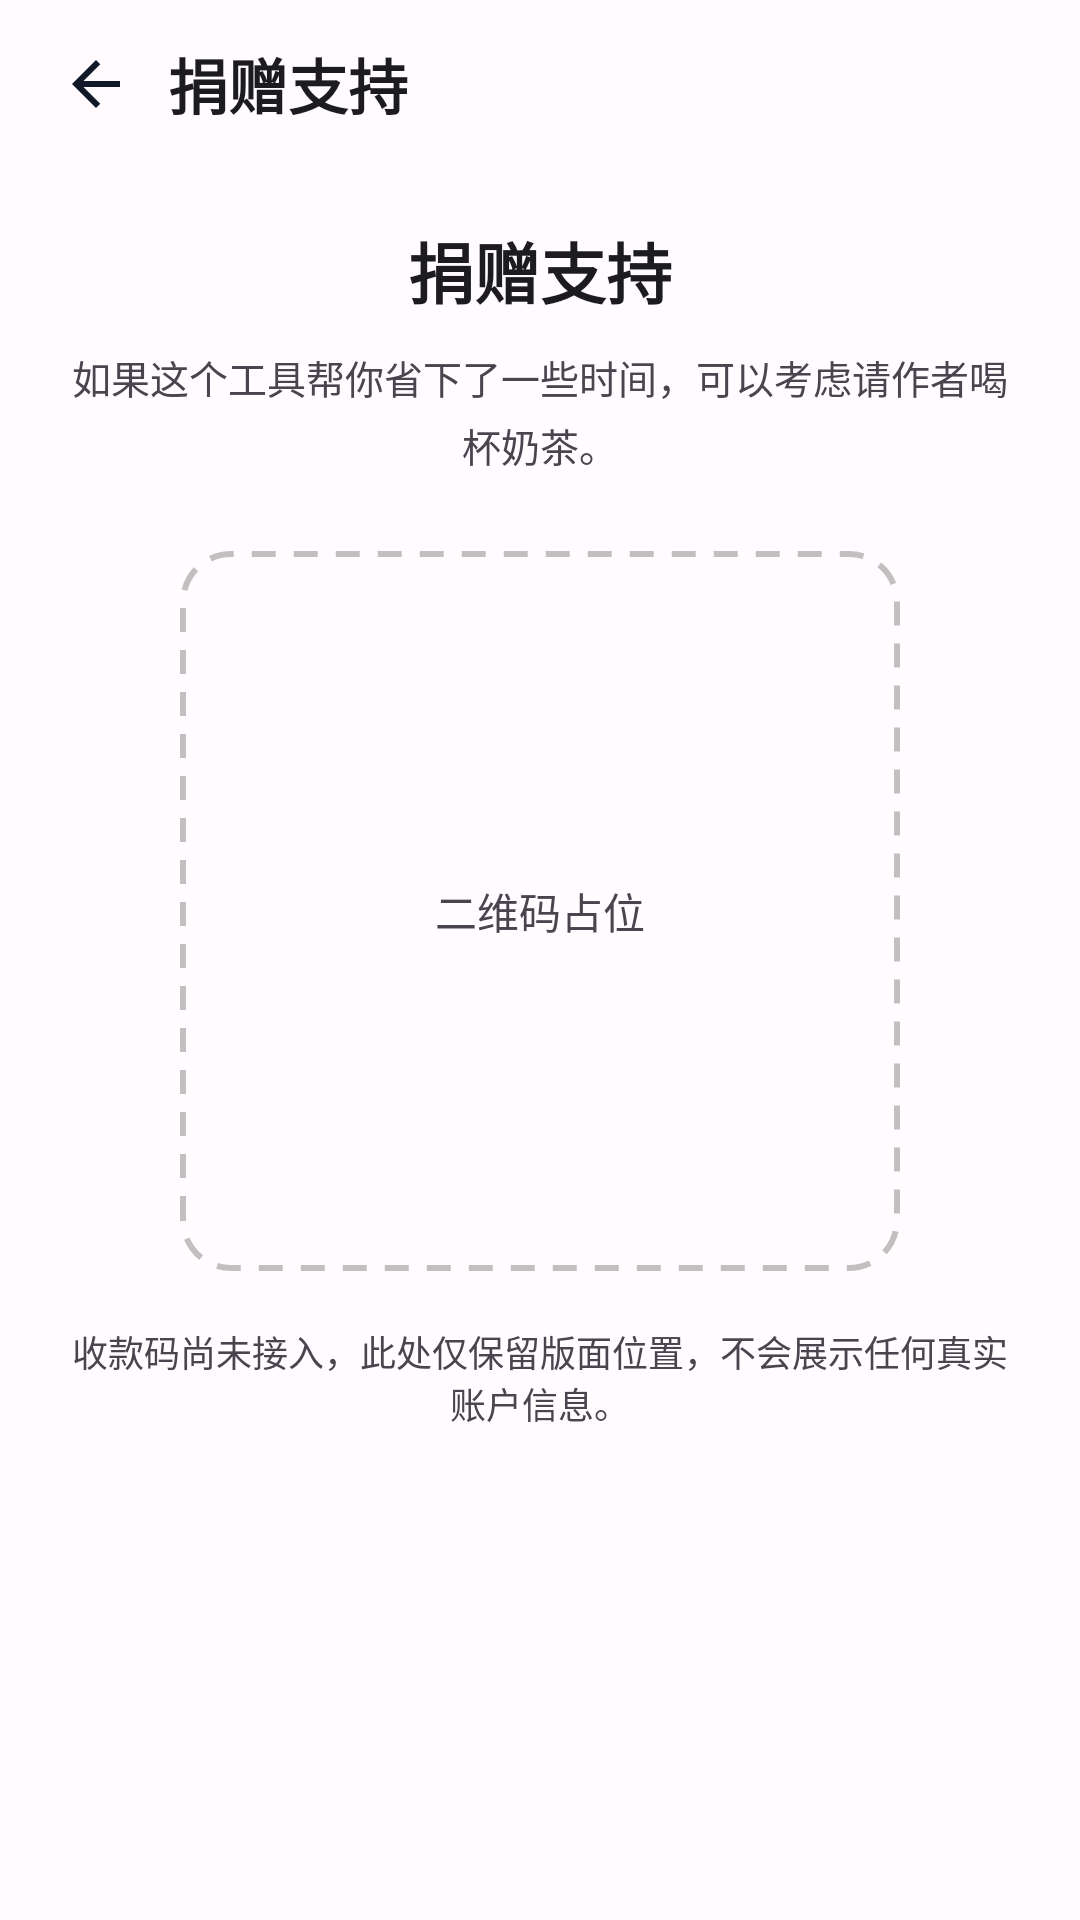

Named icons in this screenshot (1080px x 1920px) and their bounding boxes, (x1,y1,x2,y2):
arrow back: (72,60,120,108)
